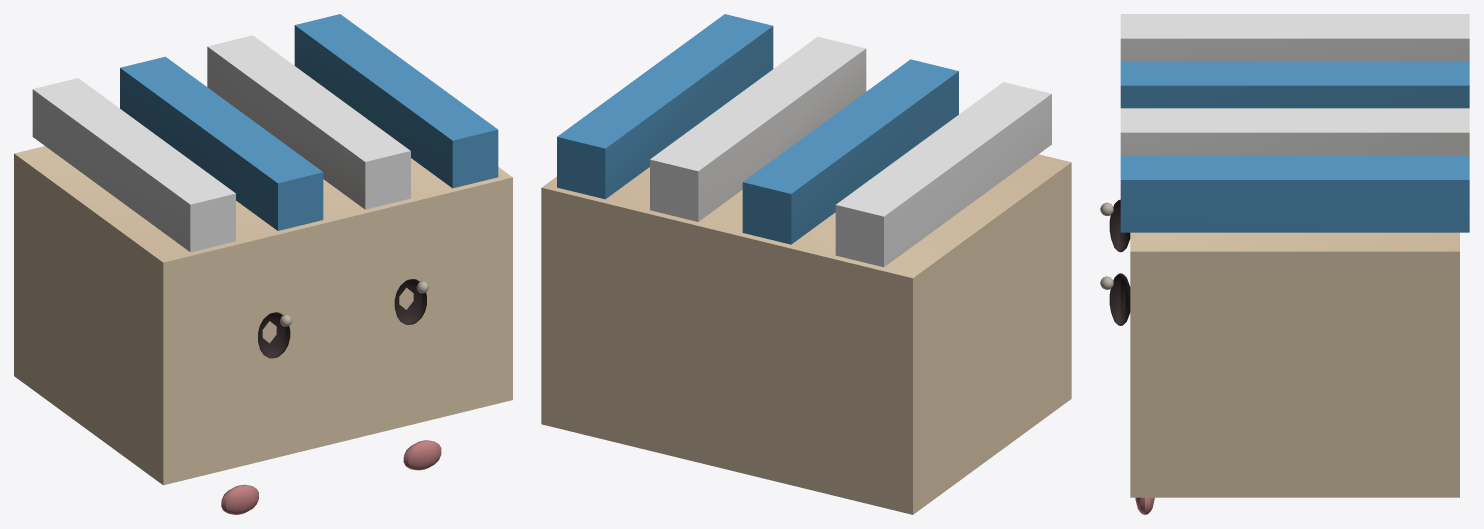
The picture shows the model from 3 angles, left to right: view 1: azimuth 30°, elevation 25°; view 2: azimuth 150°, elevation 25°; view 3: azimuth 270°, elevation 25°; orthographic projection. The views are drawn at different scales.
Parts seen in each view (by area): view 1: pet_pa23e08bc; view 2: pet_pa23e08bc; view 3: pet_pa23e08bc.
Part boxes in pixels (bbox=[...]): pet_pa23e08bc: bbox=[14, 14, 512, 514]; pet_pa23e08bc: bbox=[541, 14, 1071, 514]; pet_pa23e08bc: bbox=[1100, 14, 1469, 514].
Bounding box in the file's own units: 0.46 × 0.4176 × 0.3809.
